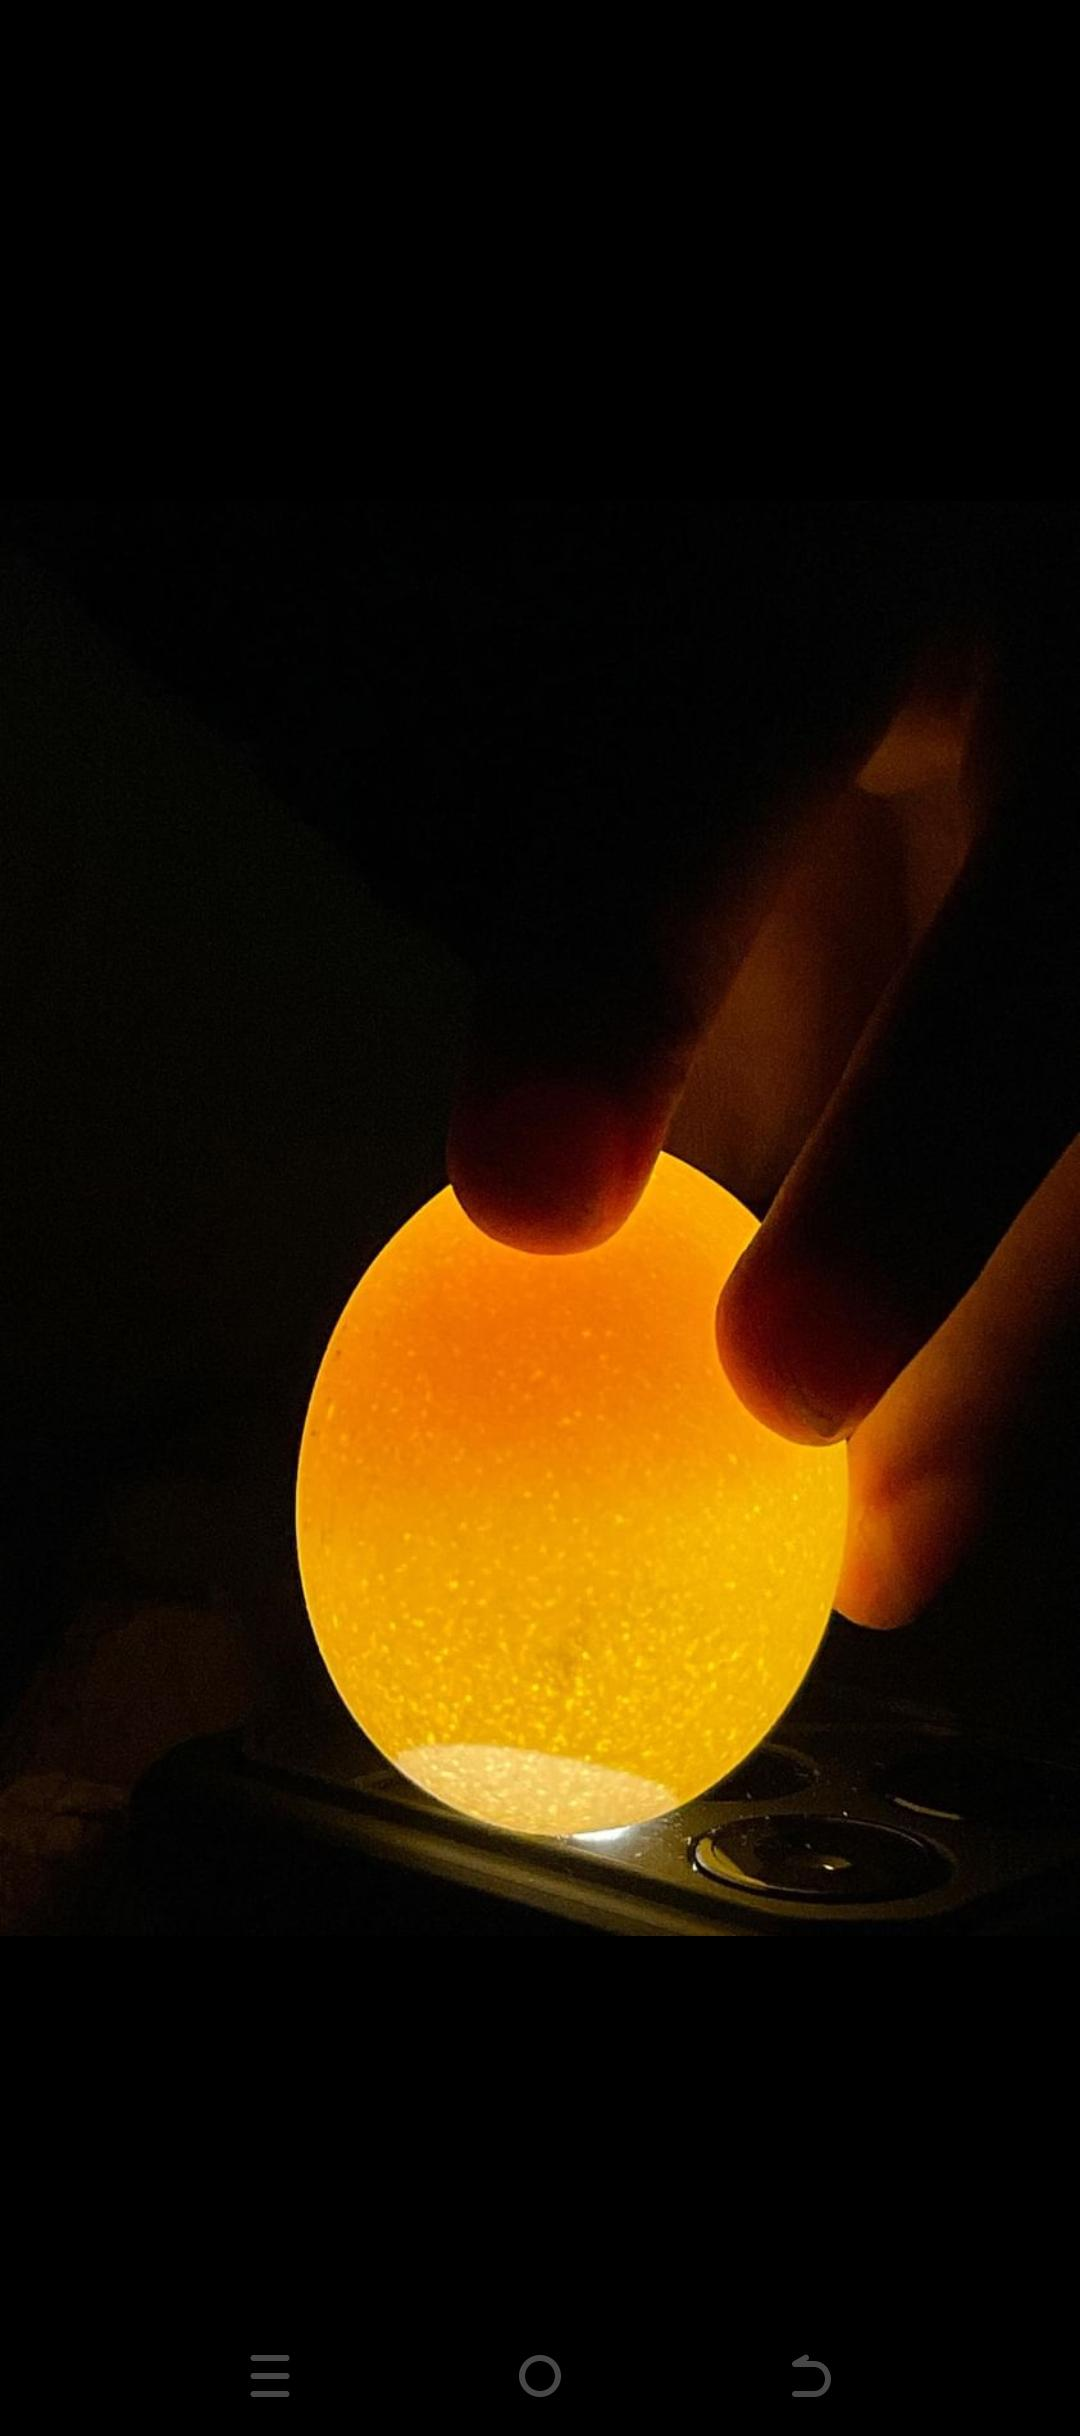A - Good: (277, 1123, 859, 1886)
